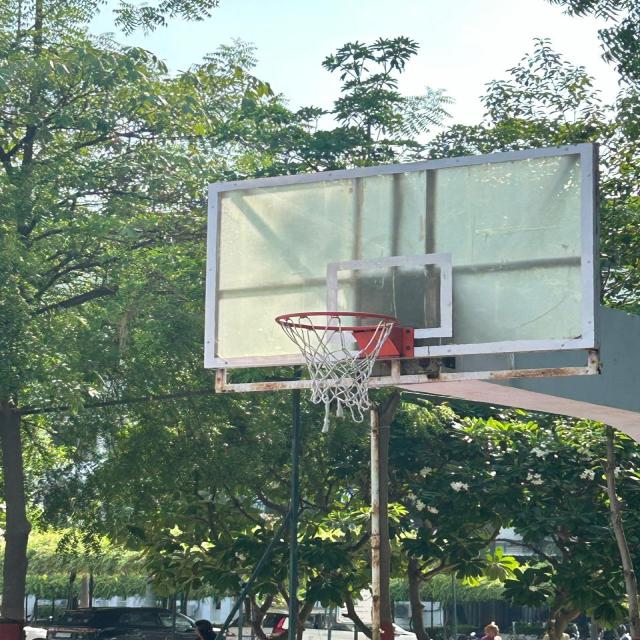hoop: (256, 306, 448, 430)
